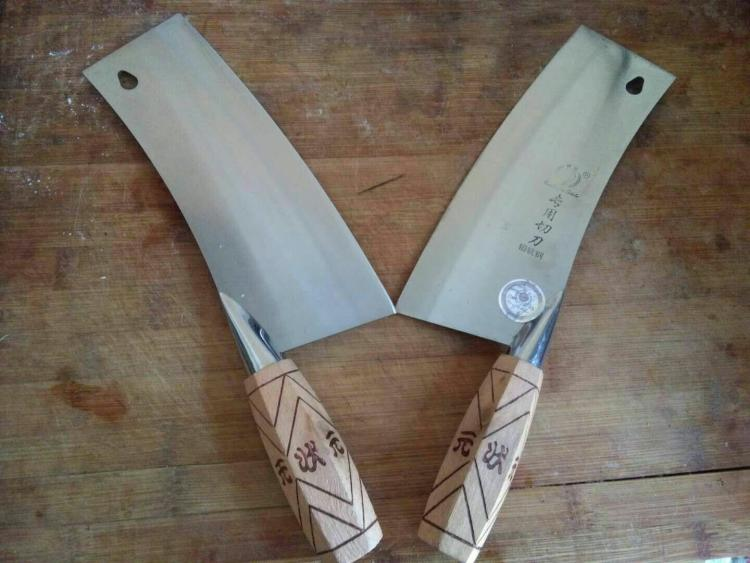knief: (90, 40, 405, 545)
